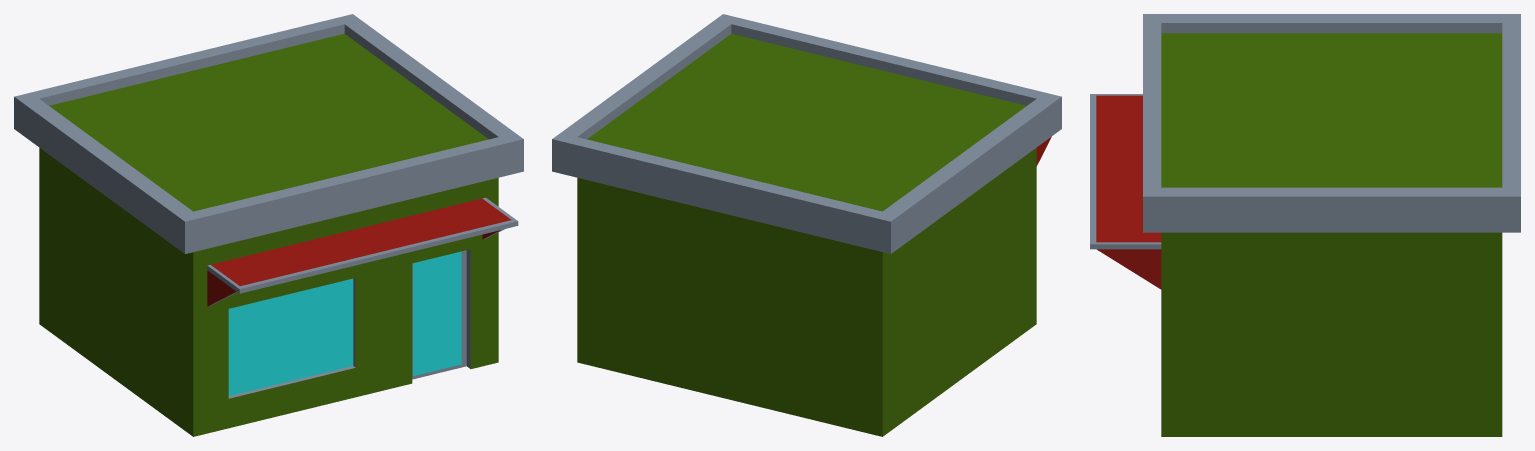
The model's file is SeedStore.fbx.
3 views of the same model, side by side, from view 1: azimuth 30°, elevation 25°; view 2: azimuth 150°, elevation 25°; view 3: azimuth 270°, elevation 25° (orthographic). The views are drawn at different scales.
Parts seen in each view (by area): view 1: SeedStore; view 2: SeedStore; view 3: SeedStore.
Part boxes in pixels (x1,y1,x2,y2): SeedStore: [14, 14, 523, 436]; SeedStore: [552, 14, 1061, 436]; SeedStore: [1090, 14, 1520, 436].
Size of the model in its own units: 1425 by 906 by 1421.
